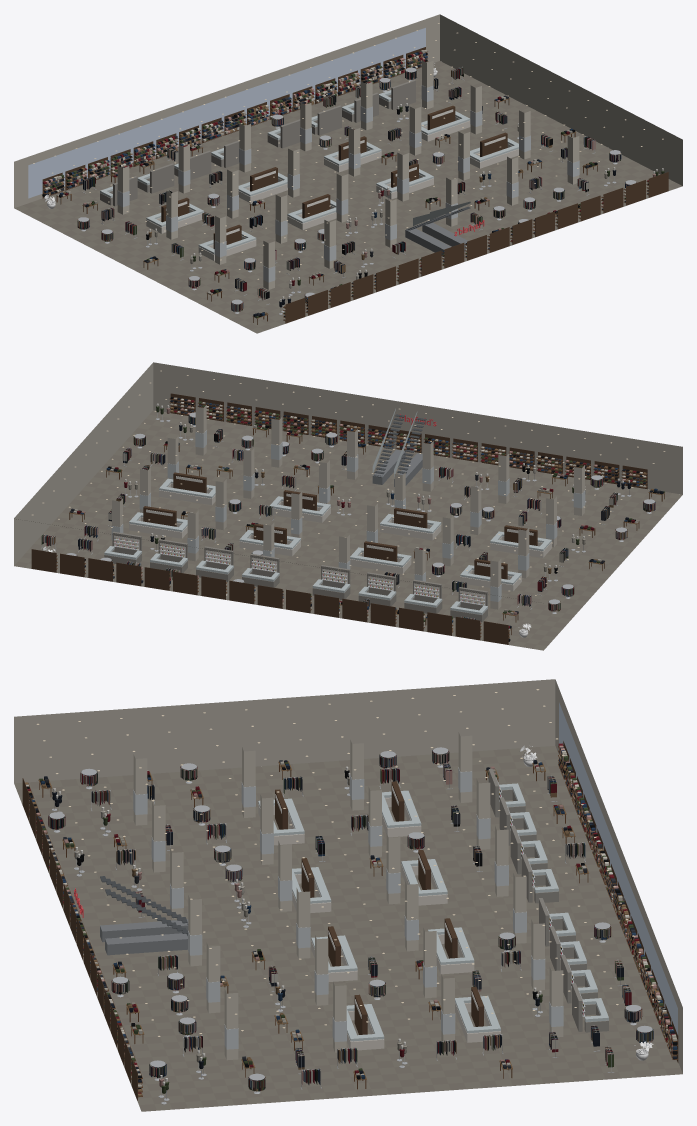
The model's file is macys_int.glb.
3 views of the same model, one above another, from view 1: azimuth 30°, elevation 25°; view 2: azimuth 150°, elevation 25°; view 3: azimuth 270°, elevation 25° (orthographic). The views are drawn at different scales.
Visible parts, largest first — view 1: I_x_marble_white, I_x_plaster, I_paint, I_d_x_veneer, I_sky, I_d_x_velvet, I_d_paint, I_x_veneer, I_chrome, I_glassI, I_d_metal, I_lampI (+1 smaller); view 2: I_x_marble_white, I_x_plaster, I_d_x_veneer, I_paint, I_d_x_velvet, I_d_paint, I_glassI, I_chrome, I_x_veneer, I_ceilglow, I_d_metal, I_metal (+1 smaller); view 3: I_x_marble_white, I_x_plaster, I_paint, I_d_x_velvet, I_d_x_veneer, I_glassI, I_chrome, I_d_paint, I_x_veneer, I_d_metal, I_sky, I_metal (+1 smaller).
Boxes of the visible parts, left/top/right/bottom form: I_x_marble_white: left=14, top=61, right=682, bottom=333; I_x_plaster: left=14, top=14, right=682, bottom=207; I_paint: left=117, top=60, right=579, bottom=289; I_d_x_veneer: left=42, top=47, right=668, bottom=324; I_sky: left=28, top=28, right=425, bottom=198; I_d_x_velvet: left=57, top=67, right=664, bottom=317; I_d_paint: left=42, top=49, right=663, bottom=319; I_x_veneer: left=100, top=80, right=415, bottom=206; I_chrome: left=117, top=85, right=579, bottom=282; I_glassI: left=100, top=90, right=518, bottom=253; I_d_metal: left=78, top=67, right=636, bottom=314; I_lampI: left=33, top=23, right=663, bottom=279; I_x_marble_white: left=14, top=410, right=682, bottom=650; I_x_plaster: left=14, top=362, right=682, bottom=601; I_d_x_veneer: left=31, top=393, right=664, bottom=644; I_paint: left=112, top=405, right=584, bottom=609; I_d_x_velvet: left=41, top=406, right=664, bottom=630; I_d_paint: left=56, top=397, right=646, bottom=641; I_glassI: left=104, top=408, right=551, bottom=614; I_chrome: left=111, top=430, right=585, bottom=605; I_x_veneer: left=104, top=531, right=487, bottom=622; I_ceilglow: left=114, top=535, right=485, bottom=605; I_d_metal: left=41, top=412, right=654, bottom=618; I_metal: left=372, top=414, right=426, bottom=486; I_x_marble_white: left=14, top=746, right=682, bottom=1111; I_x_plaster: left=14, top=679, right=682, bottom=1073; I_paint: left=133, top=732, right=563, bottom=1060; I_d_x_velvet: left=39, top=750, right=653, bottom=1093; I_d_x_veneer: left=22, top=741, right=678, bottom=1100; I_glassI: left=258, top=783, right=608, bottom=1041; I_chrome: left=133, top=767, right=585, bottom=1049; I_d_paint: left=25, top=743, right=677, bottom=1096; I_x_veneer: left=488, top=768, right=608, bottom=1032; I_d_metal: left=49, top=747, right=652, bottom=1104; I_sky: left=559, top=702, right=677, bottom=1034; I_metal: left=100, top=876, right=188, bottom=955.
Size of the model in its own units: 65.98 by 5.8 by 50.96.
